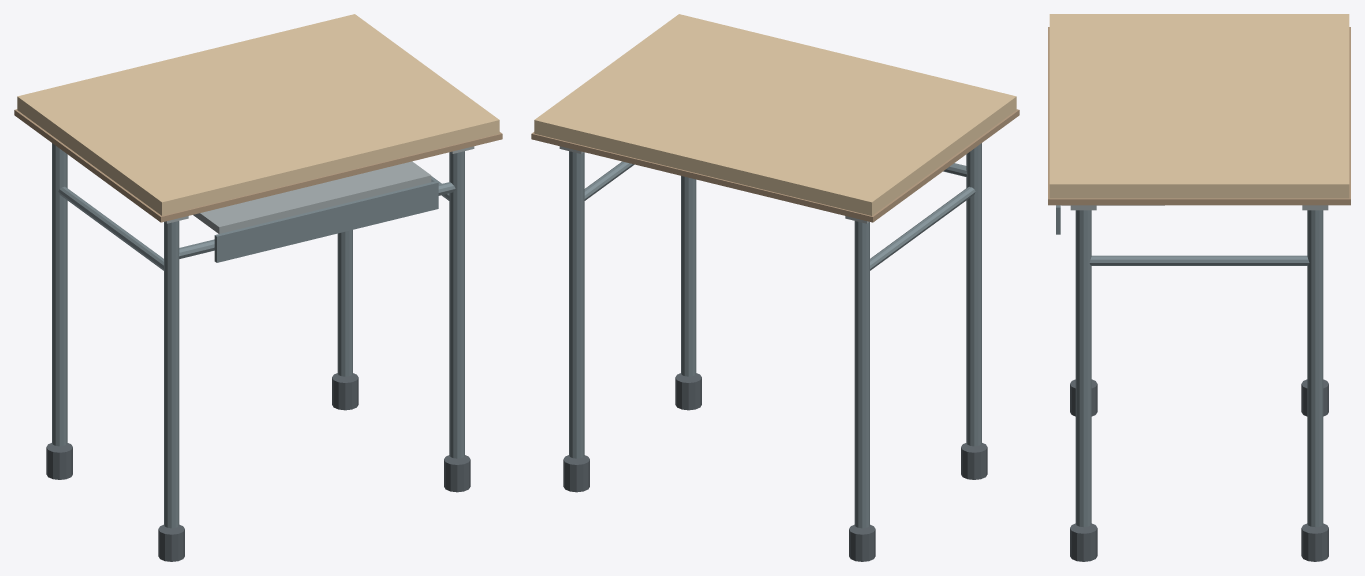
Rendered from lfc_student_desk.glb.
The picture shows the model from 3 angles, left to right: view 1: azimuth 30°, elevation 25°; view 2: azimuth 150°, elevation 25°; view 3: azimuth 270°, elevation 25°; orthographic projection. The views are drawn at different scales.
Parts seen in each view (by area): view 1: laminate_tabletop_001, tray_lip_020, supply_tray_019, round_steel_leg_007, round_steel_leg_014, round_steel_leg_004, tabletop_edge_band_002, round_steel_leg_011, side_stretcher_010, leg_glide_008, leg_glide_005, leg_glide_012 (+2 smaller); view 2: laminate_tabletop_001, round_steel_leg_011, round_steel_leg_004, round_steel_leg_007, tabletop_edge_band_002, round_steel_leg_014, side_stretcher_010, leg_glide_005, leg_glide_008, leg_glide_012, leg_glide_015; view 3: laminate_tabletop_001, round_steel_leg_011, round_steel_leg_014, tabletop_edge_band_002, side_stretcher_017, leg_glide_012, leg_glide_015, leg_glide_005, leg_glide_008.
Part boxes in pixels (x1=…): laminate_tabletop_001: x1=17, y1=14, x2=499, y2=215; tray_lip_020: x1=214, y1=181, x2=438, y2=262; supply_tray_019: x1=193, y1=161, x2=431, y2=233; round_steel_leg_007: x1=164, y1=221, x2=179, y2=528; round_steel_leg_014: x1=449, y1=151, x2=464, y2=458; round_steel_leg_004: x1=52, y1=143, x2=67, y2=446; tabletop_edge_band_002: x1=14, y1=109, x2=502, y2=222; round_steel_leg_011: x1=337, y1=230, x2=352, y2=376; side_stretcher_010: x1=58, y1=186, x2=163, y2=270; leg_glide_008: x1=158, y1=524, x2=184, y2=561; leg_glide_005: x1=46, y1=443, x2=72, y2=479; leg_glide_012: x1=332, y1=373, x2=358, y2=410; laminate_tabletop_001: x1=534, y1=14, x2=1016, y2=215; round_steel_leg_011: x1=569, y1=151, x2=584, y2=458; round_steel_leg_004: x1=854, y1=221, x2=869, y2=528; round_steel_leg_007: x1=966, y1=143, x2=981, y2=446; tabletop_edge_band_002: x1=531, y1=109, x2=1019, y2=222; round_steel_leg_014: x1=681, y1=176, x2=696, y2=376; side_stretcher_010: x1=870, y1=186, x2=975, y2=270; leg_glide_005: x1=849, y1=524, x2=875, y2=561; leg_glide_008: x1=961, y1=443, x2=987, y2=479; leg_glide_012: x1=563, y1=455, x2=589, y2=492; leg_glide_015: x1=675, y1=373, x2=701, y2=410; laminate_tabletop_001: x1=1049, y1=14, x2=1349, y2=198; round_steel_leg_011: x1=1307, y1=210, x2=1323, y2=527; round_steel_leg_014: x1=1075, y1=210, x2=1091, y2=527; tabletop_edge_band_002: x1=1048, y1=27, x2=1350, y2=205; side_stretcher_017: x1=1089, y1=255, x2=1309, y2=265; leg_glide_012: x1=1301, y1=523, x2=1328, y2=561; leg_glide_015: x1=1070, y1=523, x2=1097, y2=561; leg_glide_005: x1=1301, y1=379, x2=1328, y2=416; leg_glide_008: x1=1070, y1=379, x2=1097, y2=416.
Bounding box in the file's own units: 0.708 × 0.7375 × 0.526.
